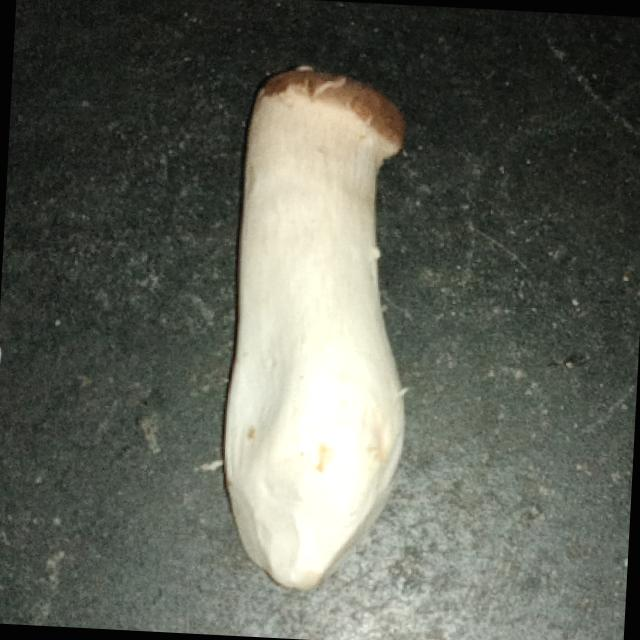Pleurotus eryngii: (213, 65, 424, 596)
